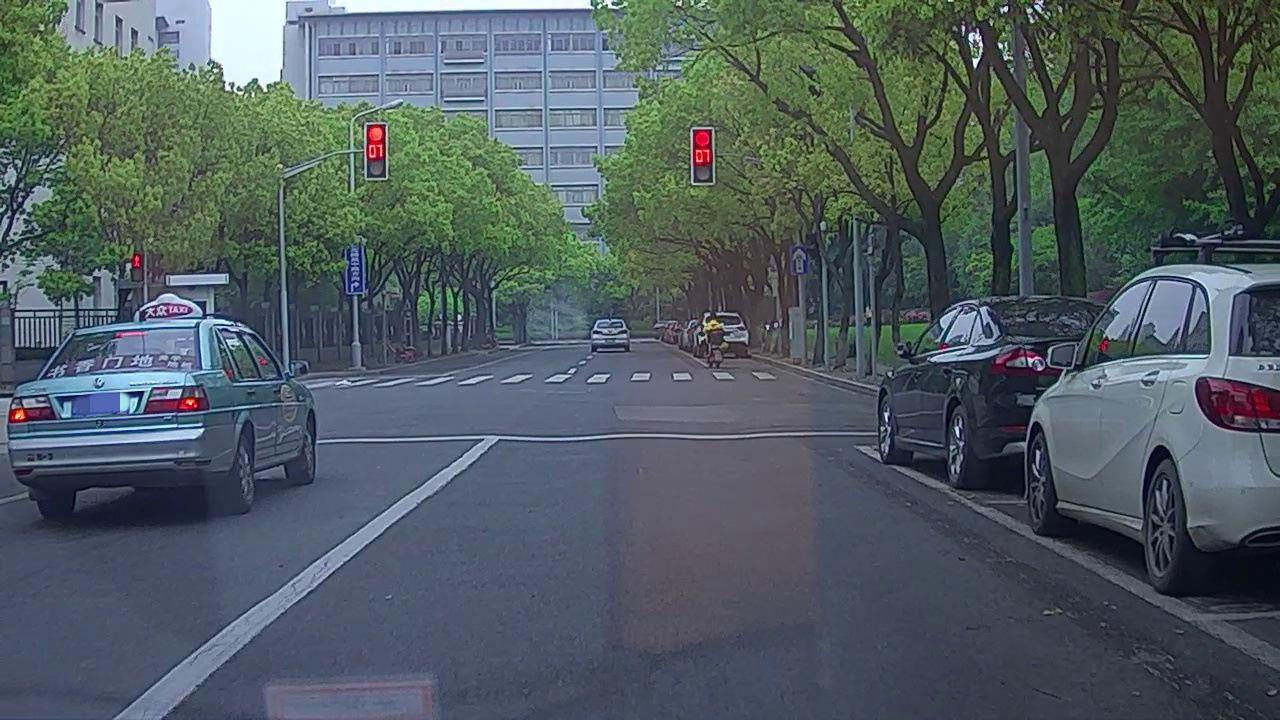traffic_light: (364, 125, 387, 179), (691, 126, 711, 185)
